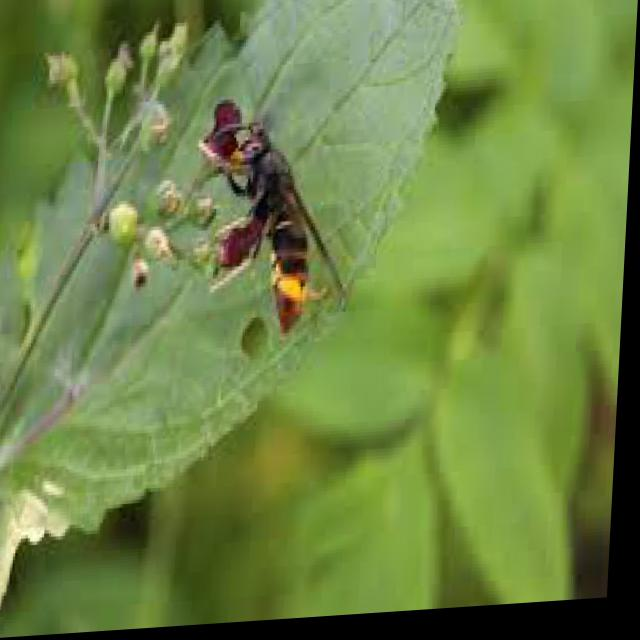Vespa Velutina: (205, 112, 365, 361)
